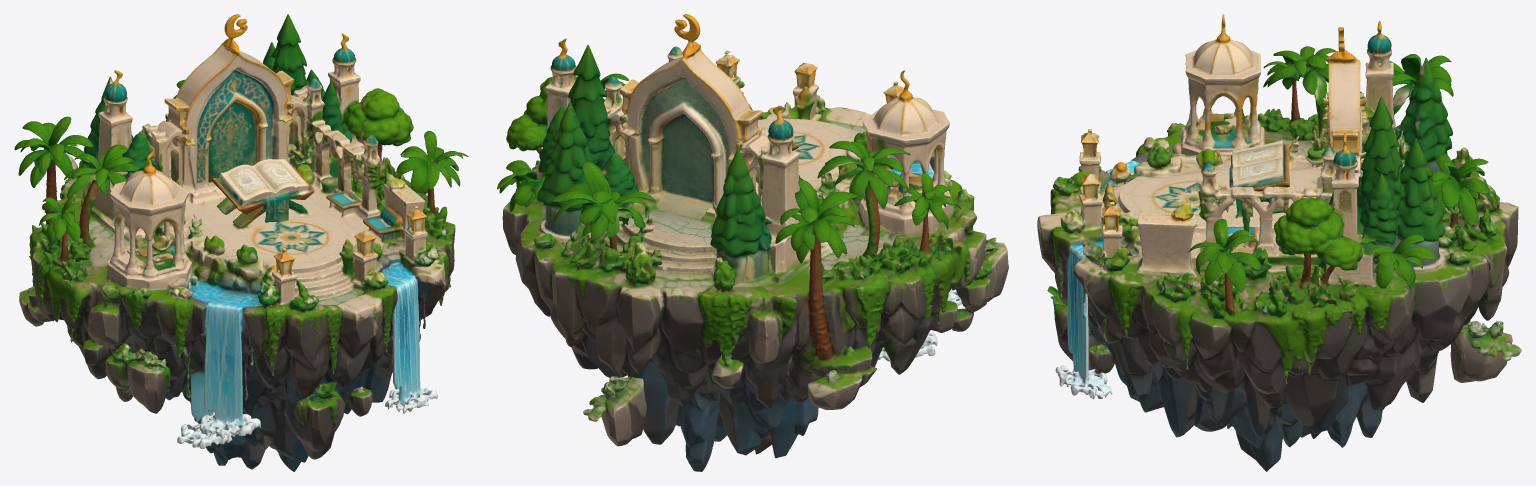
File: meshy-pulauquran2.glb
The picture shows the model from 3 angles, left to right: view 1: azimuth 30°, elevation 25°; view 2: azimuth 150°, elevation 25°; view 3: azimuth 270°, elevation 25°; orthographic projection. The views are drawn at different scales.
Bounding box in the file's own units: 1.85 × 1.89 × 1.86.
Materials: 1 (1 with a texture image).
